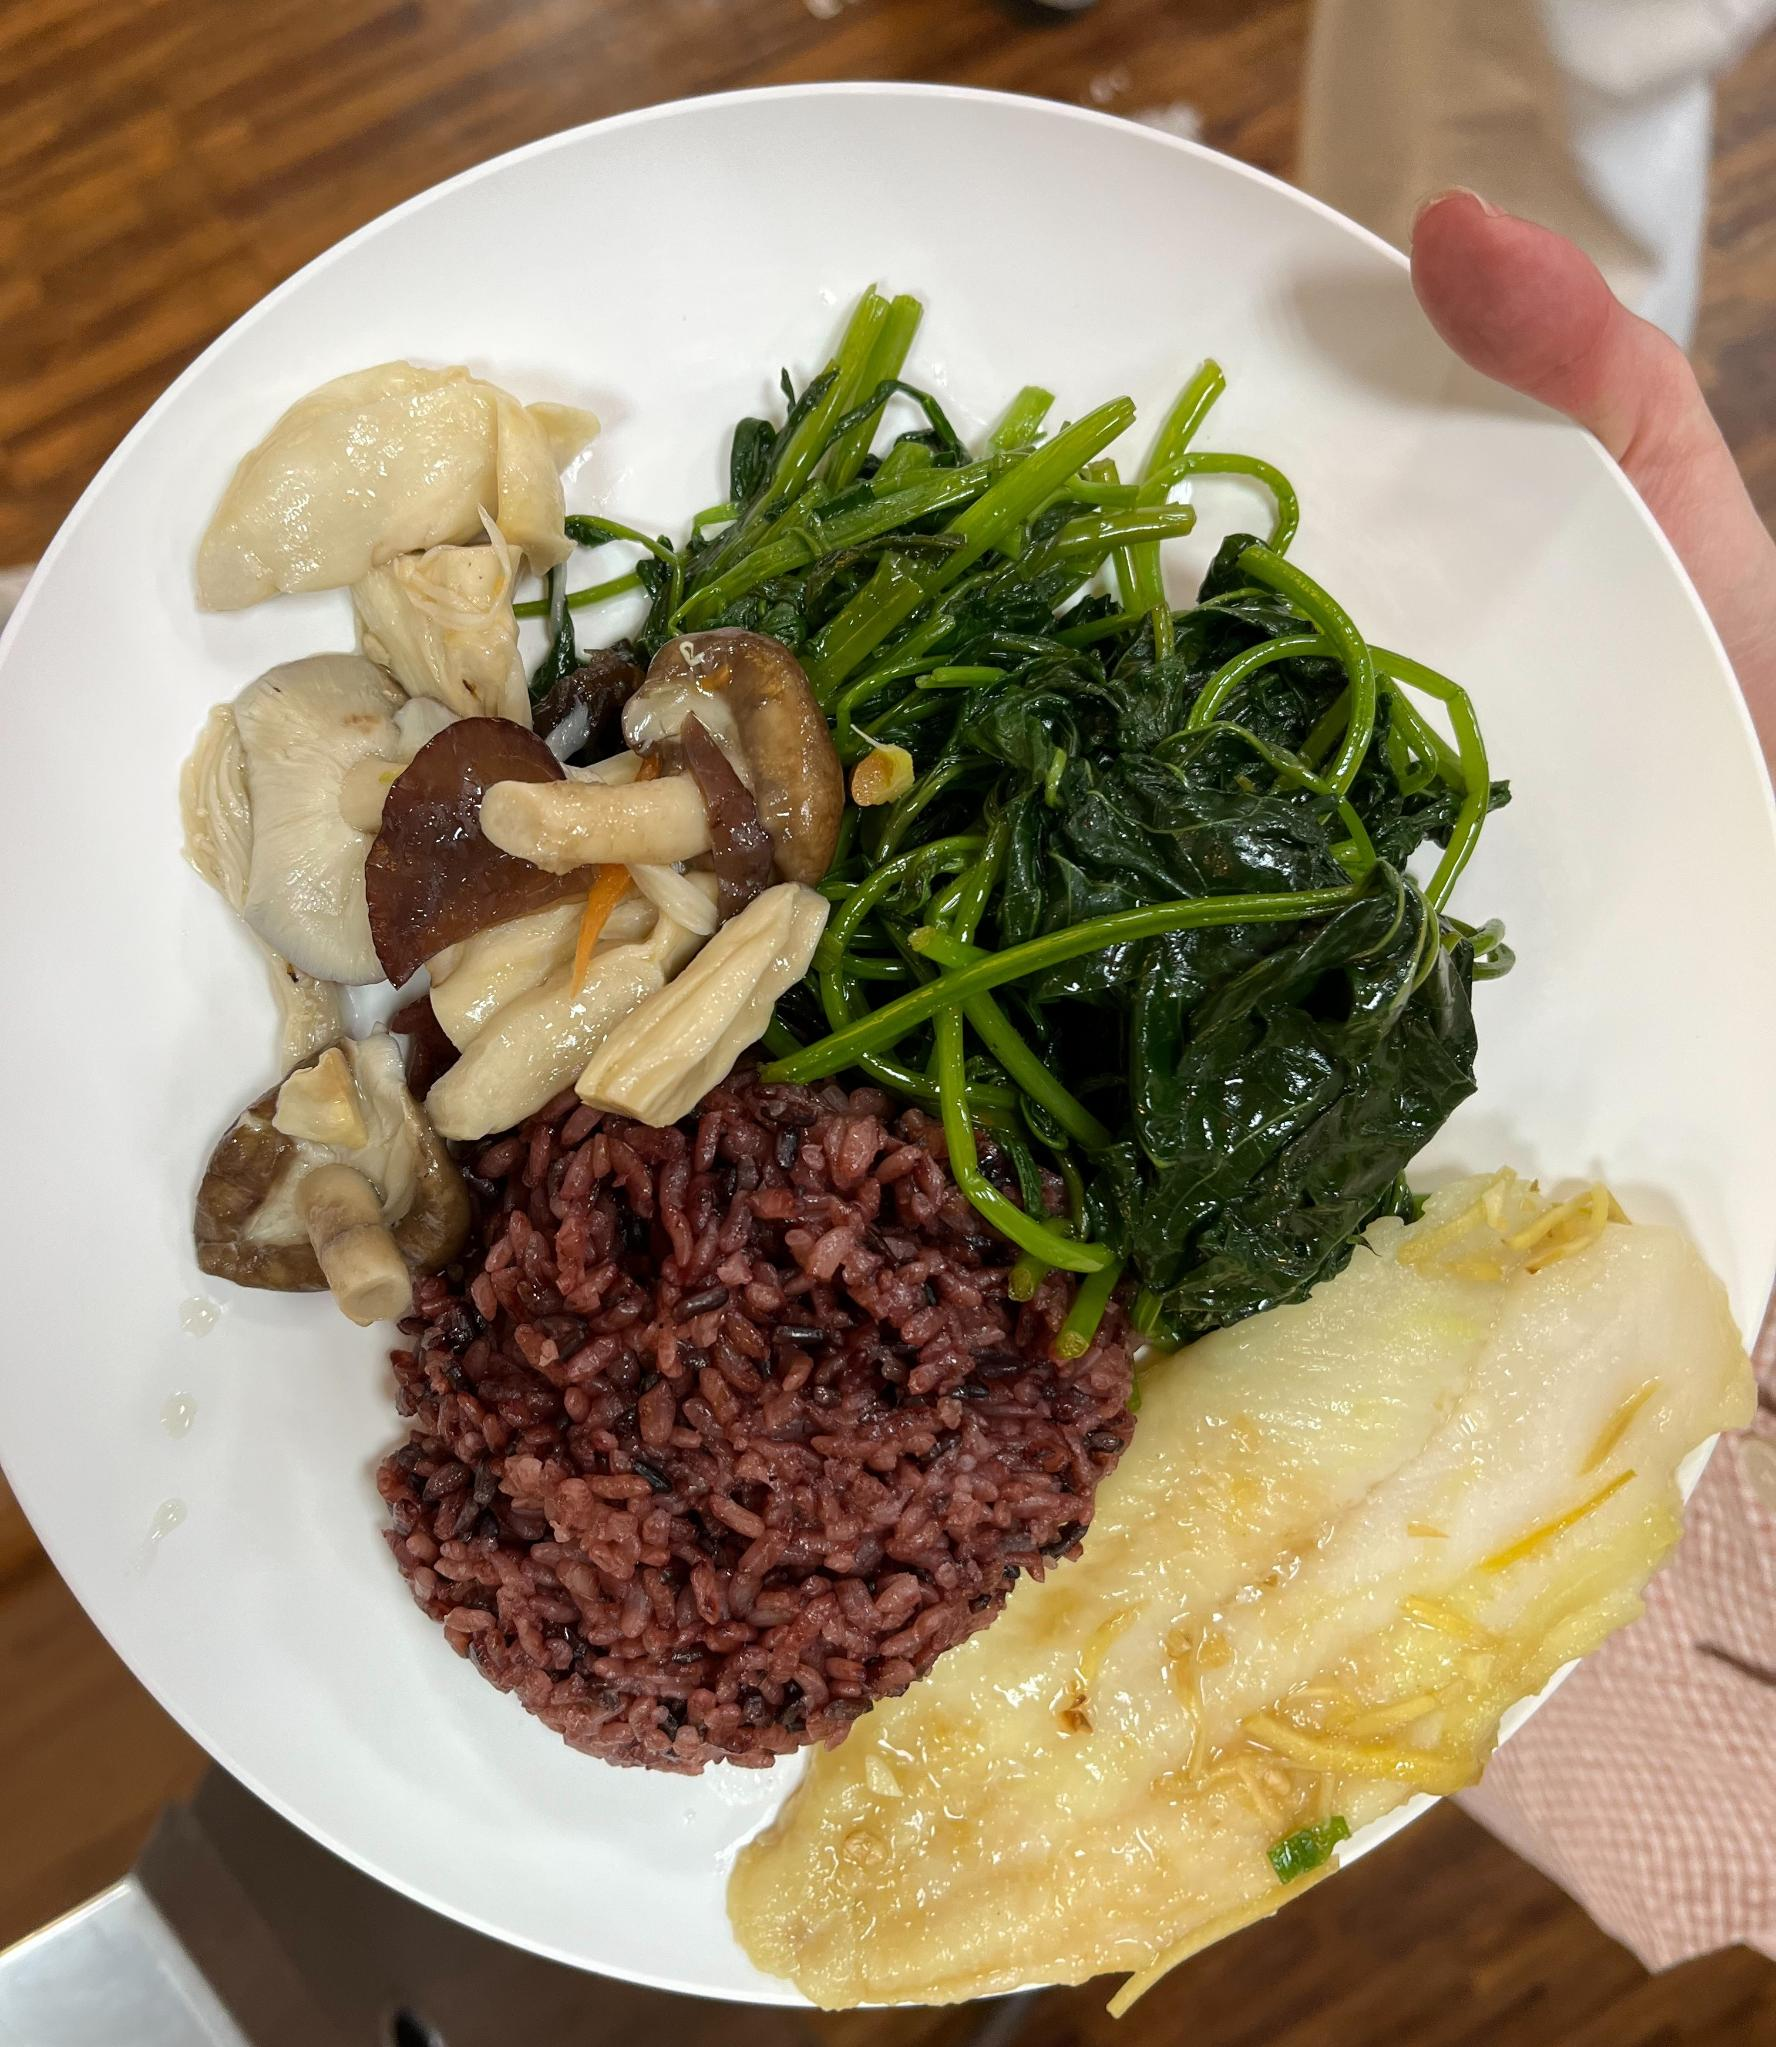big fried chicken leg: (25, 54, 1776, 2005)
braised fish: (374, 1058, 1130, 1770)
braised fish fillet: (788, 395, 1498, 1300), (201, 354, 839, 1240)
braised pork ribs: (736, 1142, 1746, 2014)
